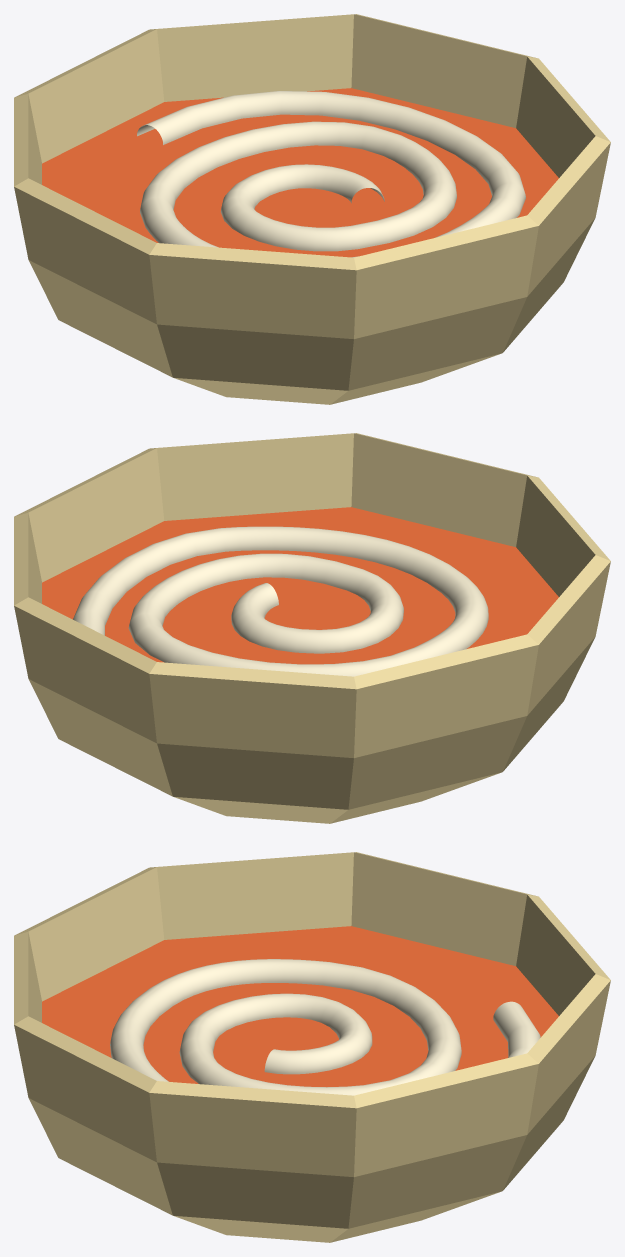
File: soup_01.fbx
3 renders of one model, top to bottom at view 1: azimuth 30°, elevation 25°; view 2: azimuth 150°, elevation 25°; view 3: azimuth 270°, elevation 25°, orthographic.
Parts seen in each view (by area): view 1: BezierCurve.001; view 2: BezierCurve.001; view 3: BezierCurve.001.
Boxes of the visible parts, x1,y1,x2,y2 form: BezierCurve.001: (14, 14, 610, 404); BezierCurve.001: (14, 433, 610, 823); BezierCurve.001: (14, 852, 610, 1242).
Bounding box in the file's own units: 205 × 84.52 × 202.
